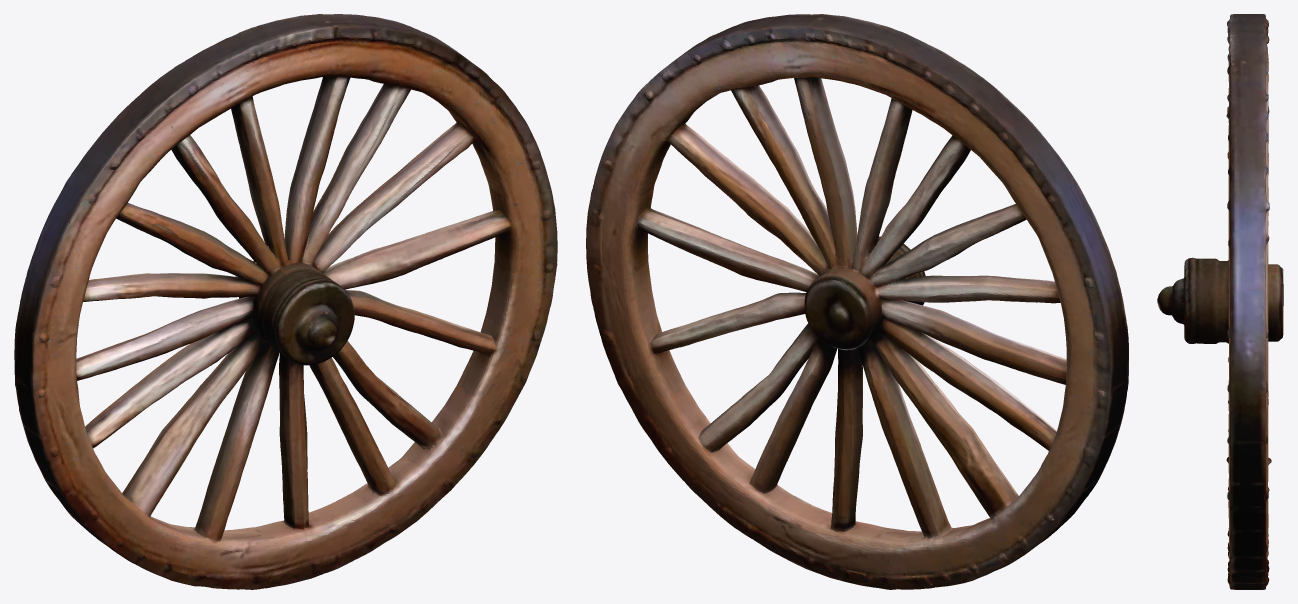
Rendered from prop_cart_wheel_01.glb.
3 views of the same model, side by side, from view 1: azimuth 30°, elevation 25°; view 2: azimuth 150°, elevation 25°; view 3: azimuth 270°, elevation 25° (orthographic). The views are drawn at different scales.
Visible parts, largest first — view 1: geometry_0; view 2: geometry_0; view 3: geometry_0.
Boxes of the visible parts, x1=… form: geometry_0: x1=14, y1=14, x2=557, y2=589; geometry_0: x1=586, y1=14, x2=1128, y2=589; geometry_0: x1=1157, y1=14, x2=1283, y2=589.
Size of the model in its own units: 1 by 0.9994 by 0.2188.
1 material, 1 textured.
